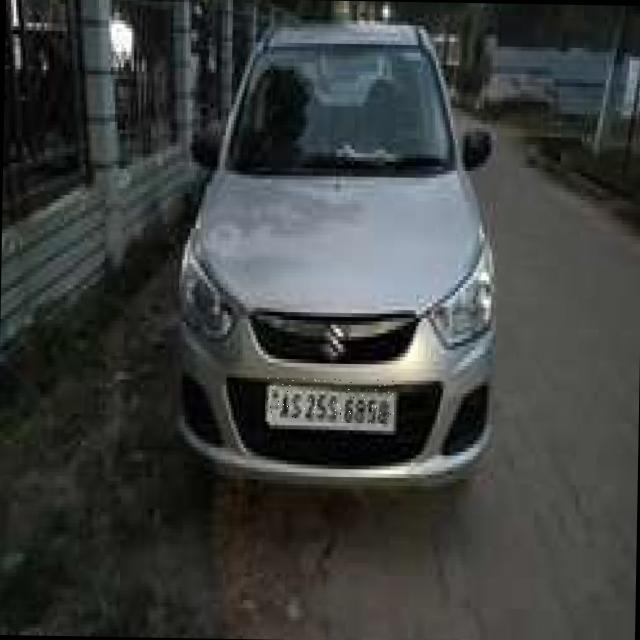Plate: (265, 378, 395, 424)
